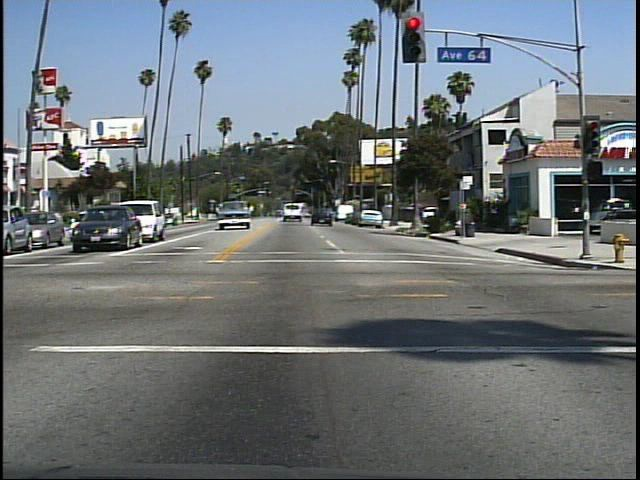person: (456, 198, 478, 241)
